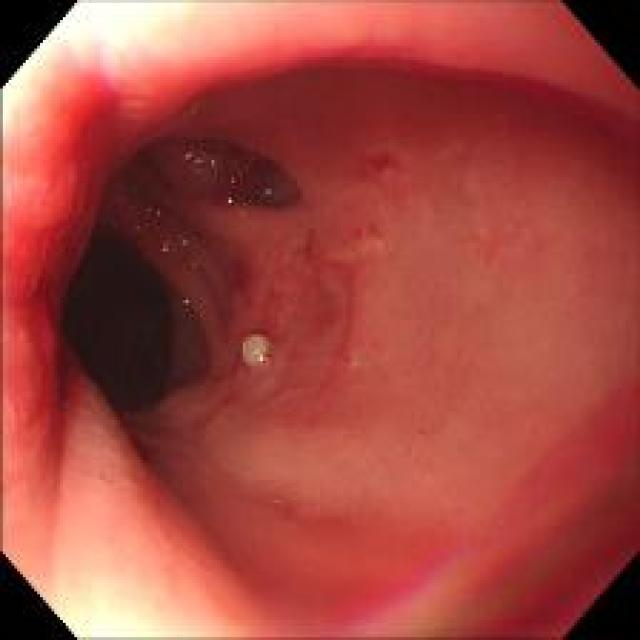color misalignment: (182, 151, 218, 171), (172, 229, 190, 249), (141, 202, 158, 216), (259, 186, 275, 196), (158, 241, 170, 254), (180, 296, 191, 306), (228, 172, 238, 182), (132, 224, 141, 230)
contrast: (61, 201, 230, 429)
saturation: (39, 541, 220, 629), (41, 1, 211, 59), (0, 50, 48, 125)
specularity: (251, 348, 264, 364)
